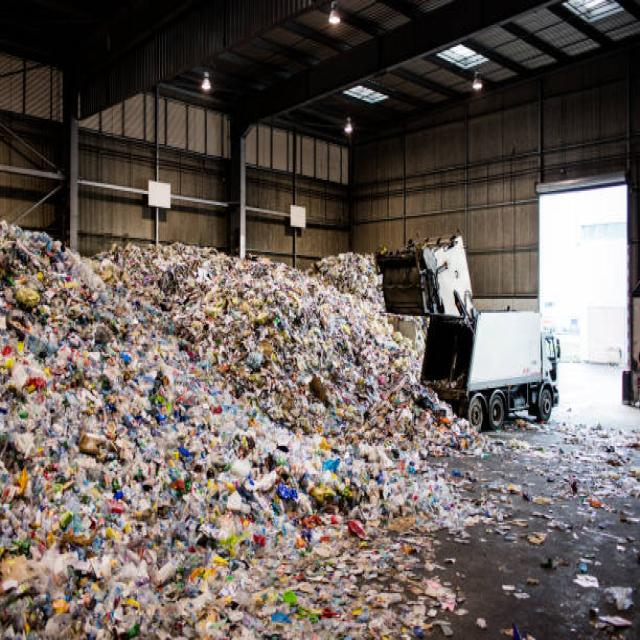trash: (16, 288, 360, 591)
